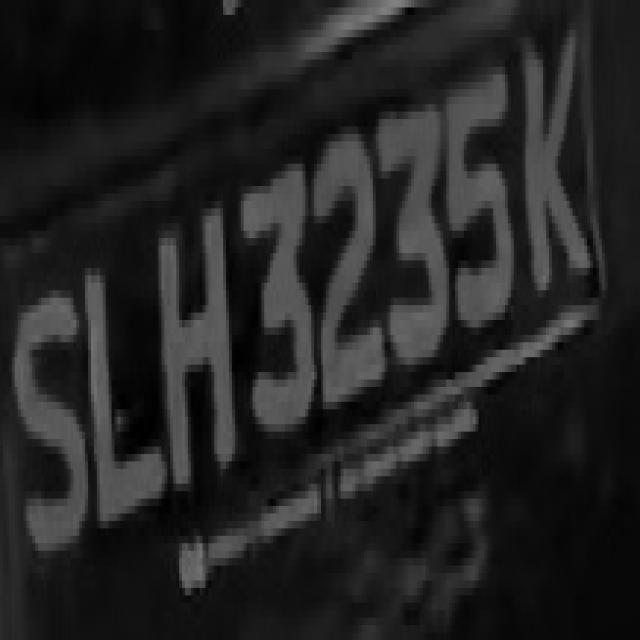2: (296, 119, 384, 402)
3: (226, 164, 311, 454), (364, 97, 452, 342)
5: (438, 52, 522, 350)
H: (152, 216, 238, 506)
K: (508, 30, 599, 305)
L: (80, 238, 168, 521)
S: (6, 275, 88, 558)
